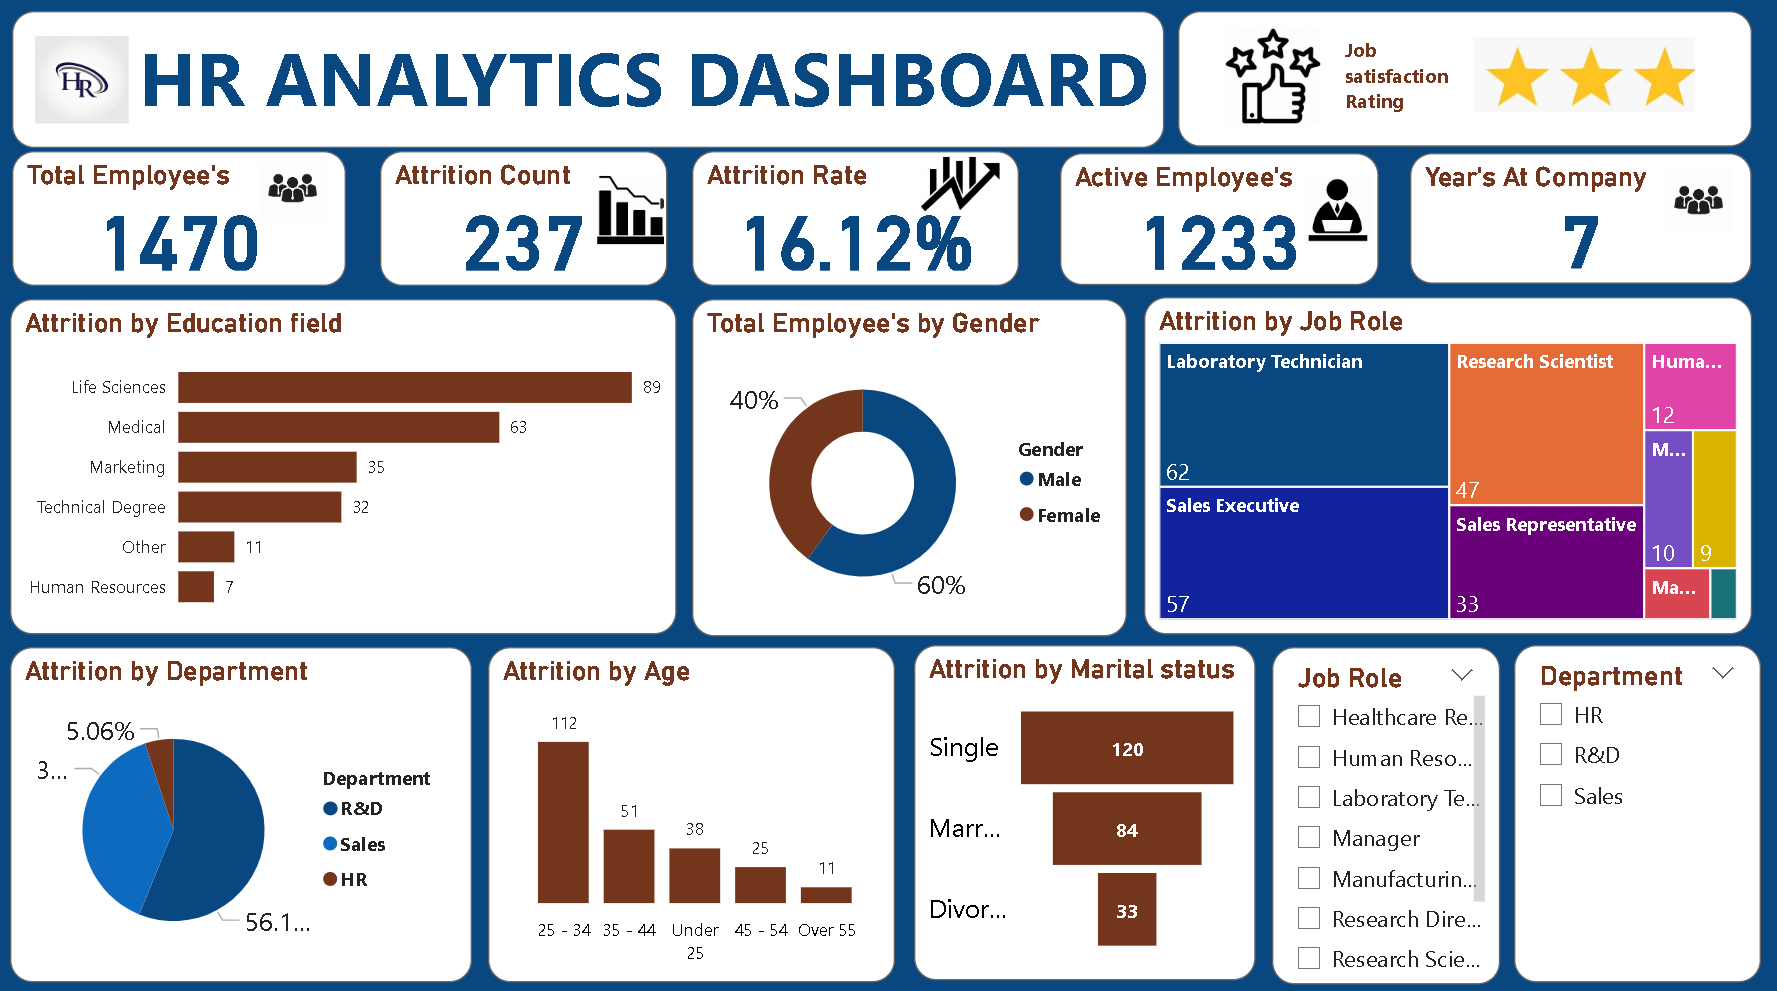

What the dashboard file says about the page in this screenshot:
{"tool":"powerbi","page":{"name":"DASHBOARD","canvas":[1280,720],"ordinal":0},"visuals":[{"type":"textbox","box":[10.6,15.2,828.1,98.6],"z":0,"group":"g1"},{"type":"card","title":"Attrition Rate","fields":{"Values":["HR data.Attrition Rate"]},"box":[499,117.1,235.1,97.1],"z":0,"group":"g6"},{"type":"donutChart","title":"Total Employee''s by Gender","fields":{"Y":["CountNonNull(HR data.Employee Number)"],"Category":["HR data.Gender"]},"box":[499,222.9,312.4,242.7],"z":0},{"type":"card","title":"Total Employee''s","fields":{"Values":["Sum(HR data.Employee Count)"]},"box":[10.4,116.9,240.1,96.9],"z":1000,"group":"g7"},{"type":"clusteredBarChart","title":"Attrition by Education field","fields":{"Y":["Sum(HR data.Attrition count)"],"Category":["HR data.Education Field"]},"box":[9.1,222.9,479.2,241.1],"z":1000},{"type":"card","title":"Attrition Count","fields":{"Values":["Sum(HR data.Attrition count)"]},"box":[273.9,116.9,206.5,96.8],"z":2000,"group":"g2"},{"type":"pieChart","title":"Attrition by Department","fields":{"Y":["Sum(HR data.Attrition count)"],"Category":["HR data.Department"]},"box":[9.1,473.2,332.1,241.1],"z":2000},{"type":"group","id":"g1","title":"Group 1","box":[10.6,15.2,828.1,98.6],"z":3000},{"type":"group","id":"g2","title":"Group 2","box":[273.9,116.9,214,96.8],"z":4000},{"type":"card","title":"Active Employee''s","fields":{"Values":["HR data.Active Employees"]},"box":[762.7,118.5,229,95.2],"z":4000,"group":"g8"},{"type":"group","id":"g3","title":"Group 3","box":[10.4,114,240.1,99.8],"z":5000},{"type":"card","title":"Year''s At Company","fields":{"Values":["Avg(HR data.Years At Company)"]},"box":[1014.9,118.5,245.7,94],"z":5000,"group":"g5"},{"type":"group","id":"g4","title":"Group 4","box":[762.7,118.5,233.3,95.2],"z":6000},{"type":"group","id":"g5","title":"Group 6","box":[1014.9,118.5,245.7,94],"z":7000},{"type":"group","id":"g6","title":"Group 8","box":[499,110.9,235.1,103.2],"z":8000},{"type":"image","box":[658.2,110.9,66.7,59.1],"z":8001,"group":"g6"},{"type":"image","box":[21.8,28.6,77.3,72.8],"z":8002,"group":"g1"},{"type":"image","box":[421.2,129.2,66.7,59.1],"z":8006,"group":"g2"},{"type":"image","box":[930,129.9,66,59],"z":8009,"group":"g8"},{"type":"image","box":[1189.4,122.3,66.7,59.1],"z":8011,"group":"g5"},{"type":"group","id":"g7","title":"Group 5","box":[10.4,114,240.1,99.8],"z":8012,"group":"g3"},{"type":"image","box":[178.2,114,66.7,59.1],"z":8012,"group":"g7"},{"type":"group","id":"g8","title":"Group 7","box":[762.7,118.5,233.3,95.2],"z":8013,"group":"g4"},{"type":"clusteredColumnChart","title":"Attrition by Age","fields":{"Y":["Sum(HR data.Attrition count)"],"Category":["HR data.CF_age band"]},"box":[351.8,473.2,292.7,241.1],"z":9000},{"type":"funnel","title":"Attrition by Marital status","fields":{"Category":["HR data.Marital Status"],"Y":["Sum(HR data.Attrition count)"]},"box":[658.2,471.7,245.7,241.1],"z":10000},{"type":"slicer","fields":{"Values":["HR data.Job Role"]},"box":[916,473.2,163.8,242.7],"z":11000},{"type":"slicer","fields":{"Values":["HR data.Department"]},"box":[1088.9,471.7,177.4,242.7],"z":12000},{"type":"treemap","title":"Attrition by Job Role","fields":{"Values":["Sum(HR data.Attrition count)"],"Group":["HR data.Job Role"]},"box":[823.5,221.4,436.8,242.7],"z":13000},{"type":"actionButton","box":[847.9,15.8,412.5,97.7],"z":14000},{"type":"textbox","box":[981.2,24.3,98.6,86.4],"z":15000},{"type":"image","box":[875.1,22.7,81.9,78.9],"z":16000},{"type":"image","box":[1079.8,28.8,159.2,63.7],"z":17000}]}

Visuals, with their boxes in screenshot pixels (x1, y1, x2, y2), scaled from the page's 1280x720 canvas onto the 1777x991 screenshot:
textbox: {"x1": 15, "y1": 21, "x2": 1164, "y2": 157}
"Attrition Rate" card: {"x1": 693, "y1": 161, "x2": 1019, "y2": 295}
"Total Employee''s by Gender" donutChart: {"x1": 693, "y1": 307, "x2": 1126, "y2": 641}
"Total Employee''s" card: {"x1": 14, "y1": 161, "x2": 348, "y2": 294}
"Attrition by Education field" clusteredBarChart: {"x1": 13, "y1": 307, "x2": 678, "y2": 639}
"Attrition Count" card: {"x1": 380, "y1": 161, "x2": 667, "y2": 294}
"Attrition by Department" pieChart: {"x1": 13, "y1": 651, "x2": 474, "y2": 983}
"Group 1" group: {"x1": 15, "y1": 21, "x2": 1164, "y2": 157}
"Group 2" group: {"x1": 380, "y1": 161, "x2": 677, "y2": 294}
"Active Employee''s" card: {"x1": 1059, "y1": 163, "x2": 1377, "y2": 294}
"Group 3" group: {"x1": 14, "y1": 157, "x2": 348, "y2": 294}
"Year''s At Company" card: {"x1": 1409, "y1": 163, "x2": 1750, "y2": 292}
"Group 4" group: {"x1": 1059, "y1": 163, "x2": 1383, "y2": 294}
"Group 6" group: {"x1": 1409, "y1": 163, "x2": 1750, "y2": 292}
"Group 8" group: {"x1": 693, "y1": 153, "x2": 1019, "y2": 295}
image: {"x1": 914, "y1": 153, "x2": 1006, "y2": 234}
image: {"x1": 30, "y1": 39, "x2": 138, "y2": 140}
image: {"x1": 585, "y1": 178, "x2": 677, "y2": 259}
image: {"x1": 1291, "y1": 179, "x2": 1383, "y2": 260}
image: {"x1": 1651, "y1": 168, "x2": 1744, "y2": 250}
"Group 5" group: {"x1": 14, "y1": 157, "x2": 348, "y2": 294}
image: {"x1": 247, "y1": 157, "x2": 340, "y2": 238}
"Group 7" group: {"x1": 1059, "y1": 163, "x2": 1383, "y2": 294}
"Attrition by Age" clusteredColumnChart: {"x1": 488, "y1": 651, "x2": 895, "y2": 983}
"Attrition by Marital status" funnel: {"x1": 914, "y1": 649, "x2": 1255, "y2": 981}
slicer - HR data.Job Role: {"x1": 1272, "y1": 651, "x2": 1499, "y2": 985}
slicer - HR data.Department: {"x1": 1512, "y1": 649, "x2": 1758, "y2": 983}
"Attrition by Job Role" treemap: {"x1": 1143, "y1": 305, "x2": 1750, "y2": 639}
actionButton: {"x1": 1177, "y1": 22, "x2": 1750, "y2": 156}
textbox: {"x1": 1362, "y1": 33, "x2": 1499, "y2": 152}
image: {"x1": 1215, "y1": 31, "x2": 1329, "y2": 140}
image: {"x1": 1499, "y1": 40, "x2": 1720, "y2": 127}
